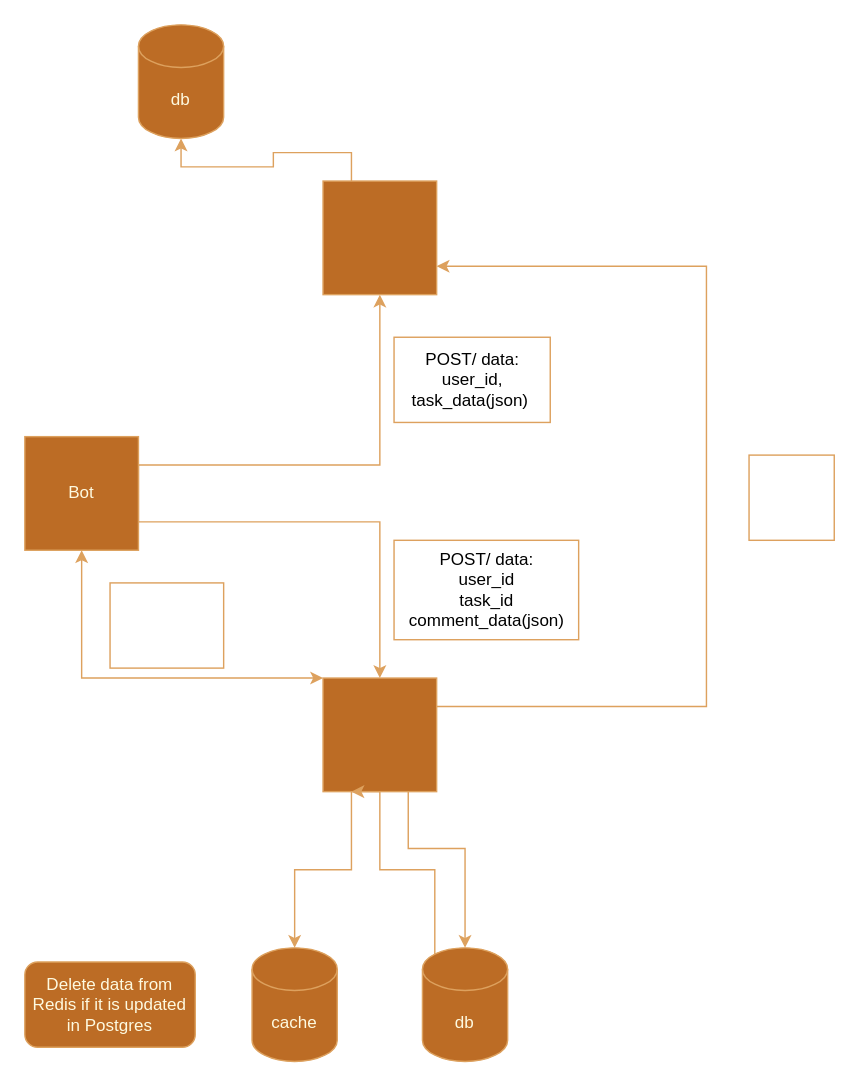
The diagram is 859 pixels wide and 1086 high, and some of its shapes have lost their labels. Each missing label, with the centre of its shape:
"Comments API" belongs at point (379, 734).
"GET/ data: task_id user_id" belongs at point (166, 624).
"GET/ user_id task_id" belongs at point (791, 497).
"Tasks API" belongs at point (379, 237).
